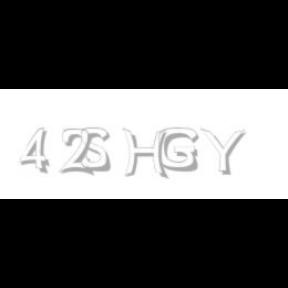2: (58, 128, 92, 176)
4: (18, 128, 50, 174)
G: (158, 128, 198, 172)
H: (122, 128, 168, 180)
S: (80, 128, 112, 172)
Y: (200, 128, 246, 176)
